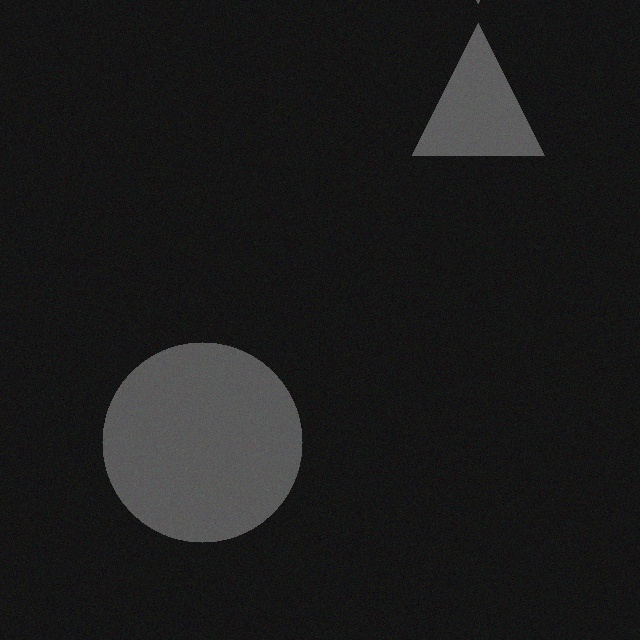circle: (90, 329, 290, 529)
triangle: (400, 10, 532, 142)
